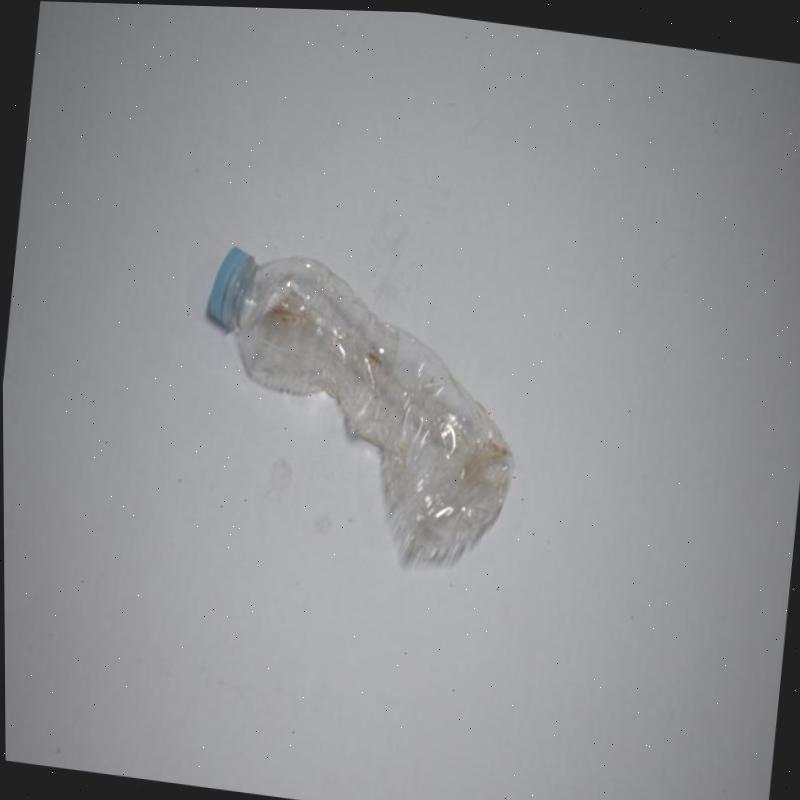botella: (181, 237, 539, 562)
